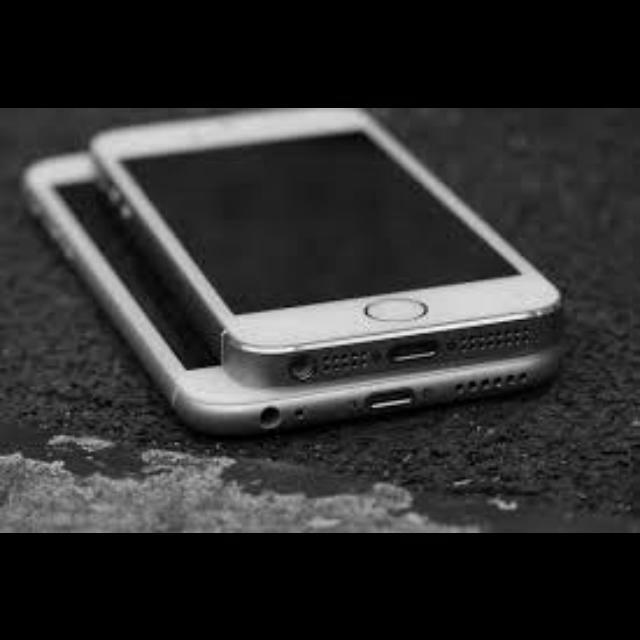fake: (4, 111, 592, 432)
